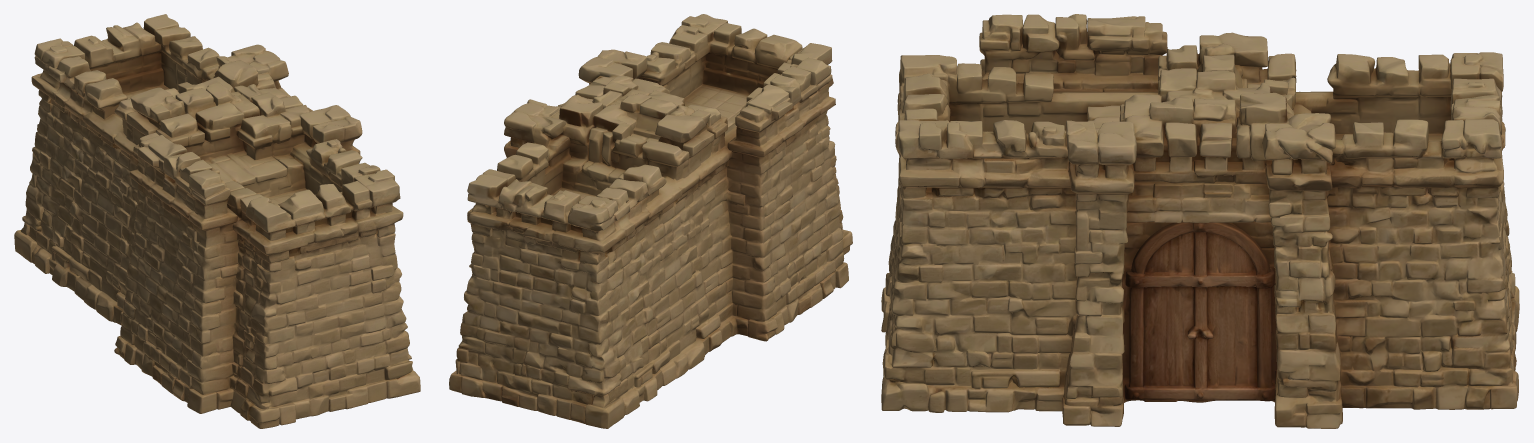
File: السور_والبوابة.glb
3 renders of one model, left to right at view 1: azimuth 30°, elevation 25°; view 2: azimuth 150°, elevation 25°; view 3: azimuth 270°, elevation 25°, orthographic. The views are drawn at different scales.
Parts seen in each view (by area): view 1: tripo_node_57bd1990-0ea3-4d87-97d2-8cbf2cdf2ec1; view 2: tripo_node_57bd1990-0ea3-4d87-97d2-8cbf2cdf2ec1; view 3: tripo_node_57bd1990-0ea3-4d87-97d2-8cbf2cdf2ec1.
Part boxes in pixels (<box>): tripo_node_57bd1990-0ea3-4d87-97d2-8cbf2cdf2ec1: <box>14,14,420,428</box>; tripo_node_57bd1990-0ea3-4d87-97d2-8cbf2cdf2ec1: <box>449,14,852,428</box>; tripo_node_57bd1990-0ea3-4d87-97d2-8cbf2cdf2ec1: <box>881,14,1519,428</box>.
Bounding box in the file's own units: 0.6137 × 0.6 × 1.19.
Materials: 1 (1 with a texture image).
